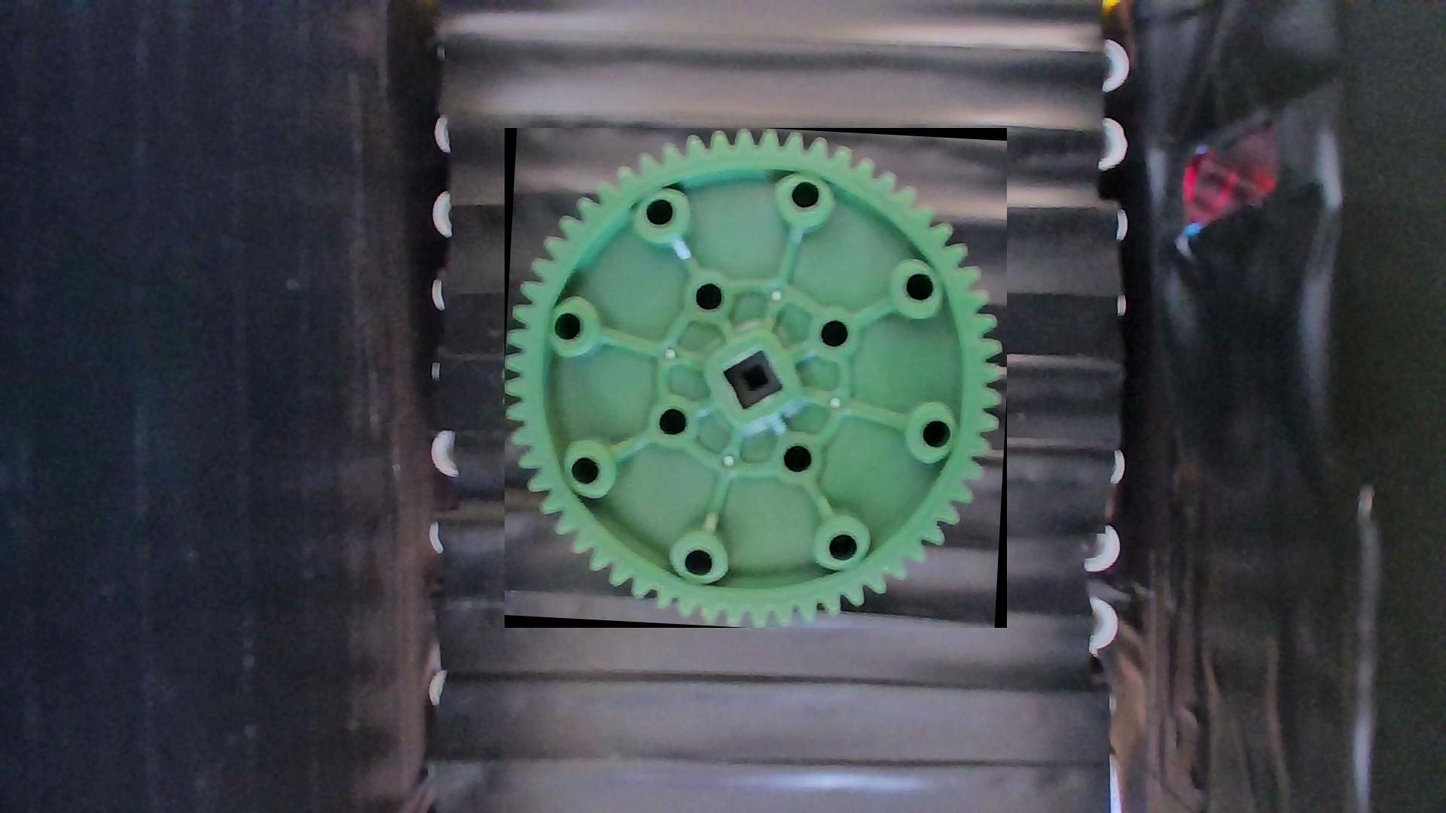gear: (503, 128, 1006, 628)
